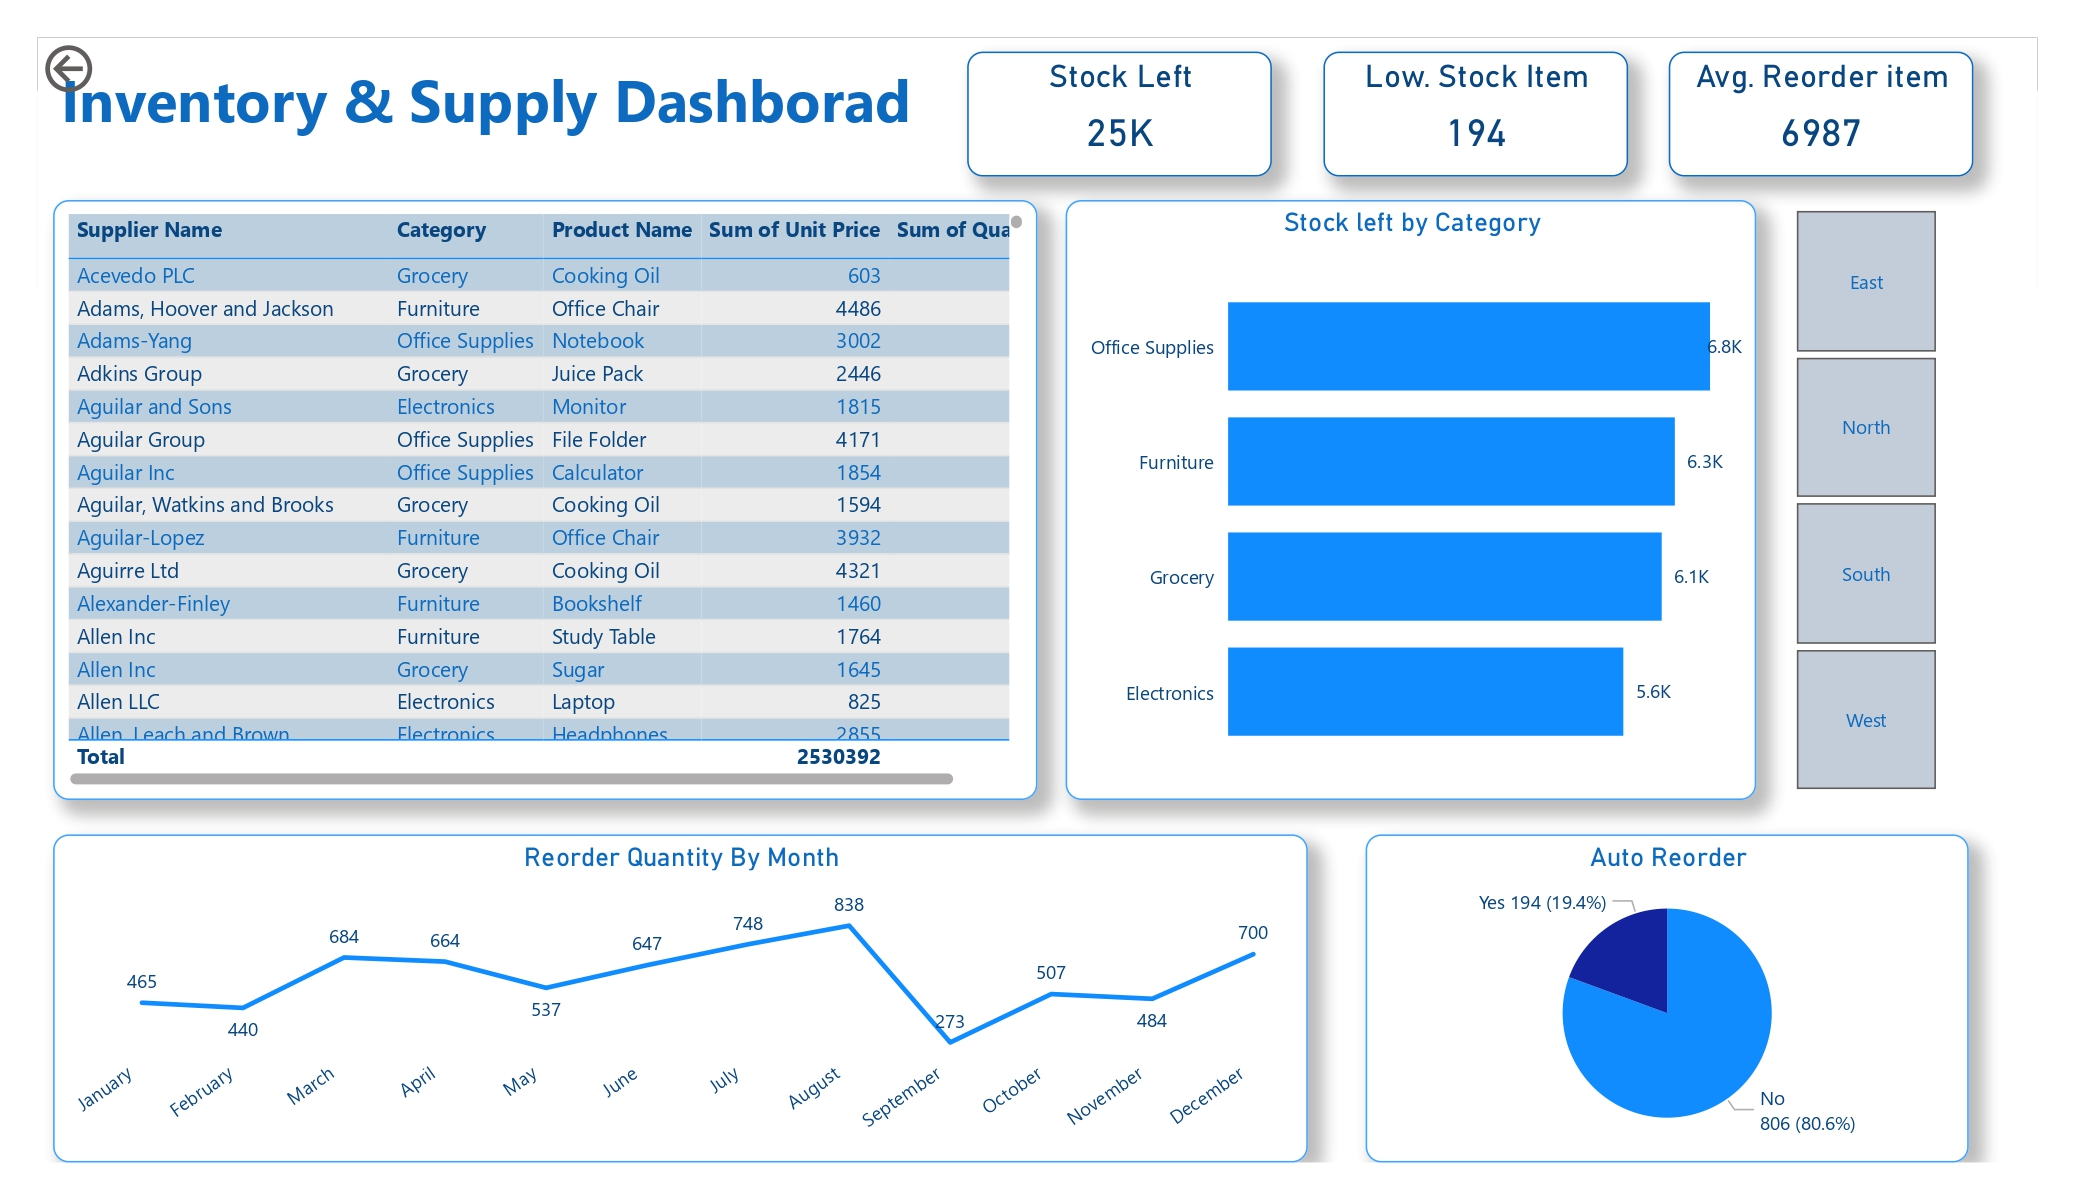

This screenshot's page, from the dashboard's own definition file:
{"tool":"powerbi","page":{"name":"Page 2","canvas":[1280,720],"ordinal":1},"visuals":[{"type":"textbox","box":[10,8.8,608.8,60],"z":0},{"type":"card","title":"Low. Stock Item","fields":{"Values":["Superstore_Management_System.Stock Left"]},"box":[822.5,8.8,195,80],"z":1},{"type":"card","title":"Stock Left ","fields":{"Values":["Superstore_Management_System.Stock Left"]},"box":[595,8.8,195,80],"z":2},{"type":"card","title":"Avg. Reorder item","fields":{"Values":["Superstore_Management_System.Reorder Quantity"]},"box":[1043.8,8.8,195,80],"z":3},{"type":"slicer","fields":{"Values":["Superstore_Management_System.Region"]},"box":[1100,103.8,138.8,383.8],"z":4},{"type":"pieChart","title":"Auto Reorder","fields":{"Category":["Superstore_Management_System.Auto Reorder"],"Y":["Superstore_Management_System.Auto Reorder"]},"box":[850,510,386.2,210],"z":5},{"type":"lineChart","title":"Reorder Quantity By Month","fields":{"Category":["Superstore_Management_System.Order Date.Variation.Date Hierarchy.Month"],"Y":["Superstore_Management_System.Reorder Quantity"]},"box":[10,510,802.5,210],"z":6},{"type":"clusteredBarChart","title":"Stock left by Category","fields":{"Category":["Superstore_Management_System.Category"],"Y":["Superstore_Management_System.Stock Left"]},"box":[657.5,103.8,442.5,383.8],"z":7},{"type":"tableEx","title":" Sales  by Category","fields":{"Values":["Superstore_Management_System.Supplier Name","Superstore_Management_System.Category","Superstore_Management_System.Product Name","Superstore_Management_System.Unit Price","Superstore_Management_System.Quantity"]},"box":[10,103.8,630,383.8],"z":8},{"type":"actionButton","box":[0,0,100,40],"z":9}]}

Visuals, with their boxes on the page's 1280x720 design canvas (x1, y1, x2, y2). These are canvas units, not pixel positions in the 2075x1200 screenshot, which may show the page scaled, cropped or inside an application window:
textbox: x1=10, y1=9, x2=619, y2=69
"Low. Stock Item" card: x1=822, y1=9, x2=1018, y2=89
"Stock Left " card: x1=595, y1=9, x2=790, y2=89
"Avg. Reorder item" card: x1=1044, y1=9, x2=1239, y2=89
slicer - Superstore_Management_System.Region: x1=1100, y1=104, x2=1239, y2=488
"Auto Reorder" pieChart: x1=850, y1=510, x2=1236, y2=720
"Reorder Quantity By Month" lineChart: x1=10, y1=510, x2=812, y2=720
"Stock left by Category" clusteredBarChart: x1=658, y1=104, x2=1100, y2=488
" Sales  by Category" tableEx: x1=10, y1=104, x2=640, y2=488
actionButton: x1=0, y1=0, x2=100, y2=40
